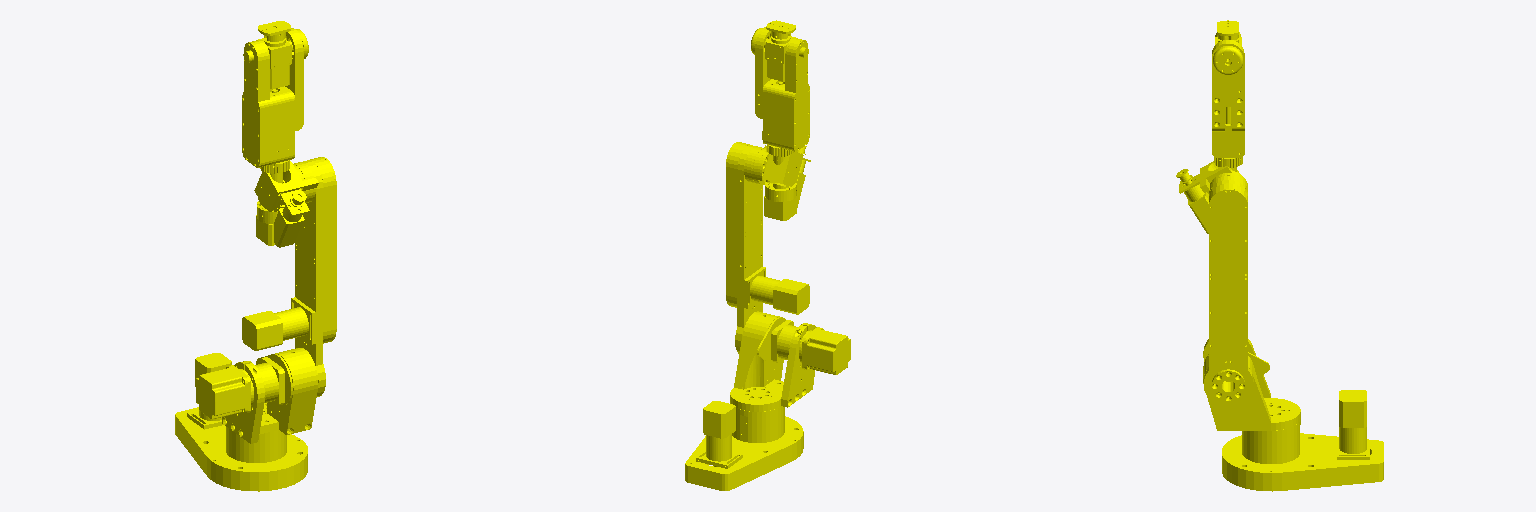
URDF robot description (ar3):
<robot
  name="ar3">
  <link
    name="base_link">
    <inertial>
      <origin
        xyz="-4.6941E-06 0.054174 0.038824"
        rpy="0 0 0" />
      <mass
        value="0.7102" />
      <inertia
        ixx="0.0039943"
        ixy="3.697E-07"
        ixz="-5.7364E-08"
        iyy="0.0014946"
        iyz="-0.00036051"
        izz="0.0042554" />
    </inertial>
    <visual>
      <origin
        xyz="0 0 0"
        rpy="0 0 0" />
      <geometry>
        <mesh
          filename="meshes/base_link.dae" />
      </geometry>
      <material
        name="">
        <color
          rgba="1 1 0 1" />
      </material>
    </visual>
    <collision>
      <origin
        xyz="0 0 0"
        rpy="0 0 0" />
      <geometry>
        <mesh
          filename="meshes/base_link.dae" />
      </geometry>
    </collision>
  </link>
  <link
    name="link_1">
    <inertial>
      <origin
        xyz="-0.022706 0.04294 -0.12205"
        rpy="0 0 0" />
      <mass
        value="0.88065" />
      <inertia
        ixx="0.0034"
        ixy="0.00042296"
        ixz="-0.00089231"
        iyy="0.0041778"
        iyz="0.0010848"
        izz="0.0027077" />
    </inertial>
    <visual>
      <origin
        xyz="0 0 0"
        rpy="0 0 0" />
      <geometry>
        <mesh
          filename="meshes/link_1.dae" />
      </geometry>
      <material
        name="">
        <color
          rgba="1 1 0 1" />
      </material>
    </visual>
    <collision>
      <origin
        xyz="0 0 0"
        rpy="0 0 0" />
      <geometry>
        <mesh
          filename="meshes/link_1.dae" />
      </geometry>
    </collision>
  </link>
  <joint
    name="joint_1"
    type="continuous">
    <origin
      xyz="0 0 0.003445"
      rpy="3.1416 -1.0248E-21 -1.6736E-05" />
    <parent
      link="base_link" />
    <child
      link="link_1" />
    <axis
      xyz="0 0 1" />
  </joint>
  <link
    name="link_2">
    <inertial>
      <origin
        xyz="0.064818 -0.11189 -0.038671"
        rpy="0 0 0" />
      <mass
        value="0.57738" />
      <inertia
        ixx="0.0047312"
        ixy="0.0022624"
        ixz="0.00032144"
        iyy="0.0020836"
        iyz="-0.00056569"
        izz="0.0056129" />
    </inertial>
    <visual>
      <origin
        xyz="0 0 0"
        rpy="0 0 0" />
      <geometry>
        <mesh
          filename="meshes/link_2.dae" />
      </geometry>
      <material
        name="">
        <color
          rgba="1 1 0 1" />
      </material>
    </visual>
    <collision>
      <origin
        xyz="0 0 0"
        rpy="0 0 0" />
      <geometry>
        <mesh
          filename="meshes/link_2.dae" />
      </geometry>
    </collision>
  </link>
  <joint
    name="joint_2"
    type="continuous">
    <origin
      xyz="0 0.064146 -0.16608"
      rpy="1.5708 0.5236 -1.5708" />
    <parent
      link="link_1" />
    <child
      link="link_2" />
    <axis
      xyz="0 0 -1" />
  </joint>
  <link
    name="link_3">
    <inertial>
      <origin
        xyz="-0.00029765 -0.023661 -1.04720367321"
        rpy="0 0 0" />
      <mass
        value="0.1787" />
      <inertia
        ixx="0.0001685"
        ixy="-2.7713E-05"
        ixz="5.6885E-06"
        iyy="0.00012865"
        iyz="2.9256E-05"
        izz="0.00020744" />
    </inertial>
    <visual>
      <origin
        xyz="0 0 0"
        rpy="0 0 0" />
      <geometry>
        <mesh
          filename="meshes/link_3.dae" />
      </geometry>
      <material
        name="">
        <color
          rgba="1 1 0 1" />
      </material>
    </visual>
    <collision>
      <origin
        xyz="0 0 0"
        rpy="0 0 0" />
      <geometry>
        <mesh
          filename="meshes/link_3.dae" />
      </geometry>
    </collision>
  </link>
  <joint
    name="joint_3"
    type="continuous">
    <origin
      xyz="0.1525 -0.26414 0"
      rpy="3.3431E-16 -1.4164E-16 -1.5708" />
    <parent
      link="link_2" />
    <child
      link="link_3" />
    <axis
      xyz="0 0 -1" />
  </joint>
  <link
    name="link_4">
    <inertial>
      <origin
        xyz="-0.0016798 -0.00057319 -0.074404"
        rpy="0 0 0" />
      <mass
        value="0.34936" />
      <inertia
        ixx="0.0030532"
        ixy="-1.8615E-05"
        ixz="-7.0047E-05"
        iyy="0.0031033"
        iyz="-2.3301E-05"
        izz="0.00022264" />
    </inertial>
    <visual>
      <origin
        xyz="0 0 0"
        rpy="0 0 0" />
      <geometry>
        <mesh
          filename="meshes/link_4.dae" />
      </geometry>
      <material
        name="">
        <color
          rgba="1 1 0 1" />
      </material>
    </visual>
    <collision>
      <origin
        xyz="0 0 0"
        rpy="0 0 0" />
      <geometry>
        <mesh
          filename="meshes/link_4.dae" />
      </geometry>
    </collision>
  </link>
  <joint
    name="joint_4"
    type="continuous">
    <origin
      xyz="0 0 0.00675"
      rpy="1.5708 -1.2554 -1.05" />
    <parent
      link="link_3" />
    <child
      link="link_4" />
    <axis
      xyz="0 0 -1" />
  </joint>
  <link
    name="link_5">
    <inertial>
      <origin
        xyz="0.0015066 -1.3102E-05 -0.012585"
        rpy="0 0 0" />
      <mass
        value="0.11562" />
      <inertia
        ixx="5.5035E-05"
        ixy="-1.019E-08"
        ixz="-2.6243E-06"
        iyy="8.2921E-05"
        iyz="1.4437E-08"
        izz="5.2518E-05" />
    </inertial>
    <visual>
      <origin
        xyz="0 0 0"
        rpy="0 0 0" />
      <geometry>
        <mesh
          filename="meshes/link_5.dae" />
      </geometry>
      <material
        name="">
        <color
          rgba="1 1 0 1" />
      </material>
    </visual>
    <collision>
      <origin
        xyz="0 0 0"
        rpy="0 0 0" />
      <geometry>
        <mesh
          filename="meshes/link_5.dae" />
      </geometry>
    </collision>
  </link>
  <joint
    name="joint_5"
    type="continuous">
    <origin
      xyz="0 0 -0.22225"
      rpy="3.1416 0 -2.8262" />
    <parent
      link="link_4" />
    <child
      link="link_5" />
    <axis
      xyz="1 0 0" />
  </joint>
  <link
    name="link_6">
    <inertial>
      <origin
        xyz="2.9287E-10 -1.6472E-09 0.0091432"
        rpy="0 0 0" />
      <mass
        value="0.013863" />
      <inertia
        ixx="1.3596E-06"
        ixy="3.0585E-13"
        ixz="5.7102E-14"
        iyy="1.7157E-06"
        iyz="6.3369E-09"
        izz="2.4332E-06" />
    </inertial>
    <visual>
      <origin
        xyz="0 0 0"
        rpy="0 0 0" />
      <geometry>
        <mesh
          filename="meshes/link_6.dae" />
      </geometry>
      <material
        name="">
        <color
          rgba="1 1 0 1" />
      </material>
    </visual>
    <collision>
      <origin
        xyz="0 0 0"
        rpy="0 0 0" />
      <geometry>
        <mesh
          filename="meshes/link_6.dae" />
      </geometry>
    </collision>
  </link>
  <joint
    name="joint_6"
    type="continuous">
    <origin
      xyz="-0.000294 0 0.02117"
      rpy="0 0 3.1416" />
    <parent
      link="link_5" />
    <child
      link="link_6" />
    <axis
      xyz="0 0 1" />
  </joint>
</robot>

--- Facts derived from the render (not from the file) ---
3 views of the same robot in one strip: view 1: azimuth 30°, elevation 25°; view 2: azimuth 150°, elevation 25°; view 3: azimuth 270°, elevation 25° (orthographic).
Robot: ar3 — 7 links, 6 joints (6 continuous); root link base_link; default pose: every joint at zero.
Visible links, largest first — view 1: link_2, link_1, base_link, link_4, link_3, link_5; view 2: link_2, link_1, base_link, link_4, link_3, link_5; view 3: base_link, link_2, link_4, link_1, link_3, link_5.
Link boxes in pixels (x1,y1,x2,y2): link_2: (242,157,336,404); link_1: (196,348,317,443); base_link: (175,353,307,491); link_4: (242,28,303,245); link_3: (254,161,318,247); link_5: (243,27,308,88); link_2: (726,142,809,362); link_1: (730,311,850,411); base_link: (685,401,803,490); link_4: (755,27,809,220); link_3: (752,145,810,207); link_5: (751,26,808,81); base_link: (1222,390,1383,491); link_2: (1203,176,1269,406); link_4: (1212,32,1244,171); link_1: (1203,339,1300,430); link_3: (1176,161,1247,233); link_5: (1213,27,1242,74).
Size in the robot's own frame: 0.2019 by 0.3133 by 0.734 metres.
Meshes: 7 distinct files referenced, 7 mesh visuals loaded (7 Collada DAE).